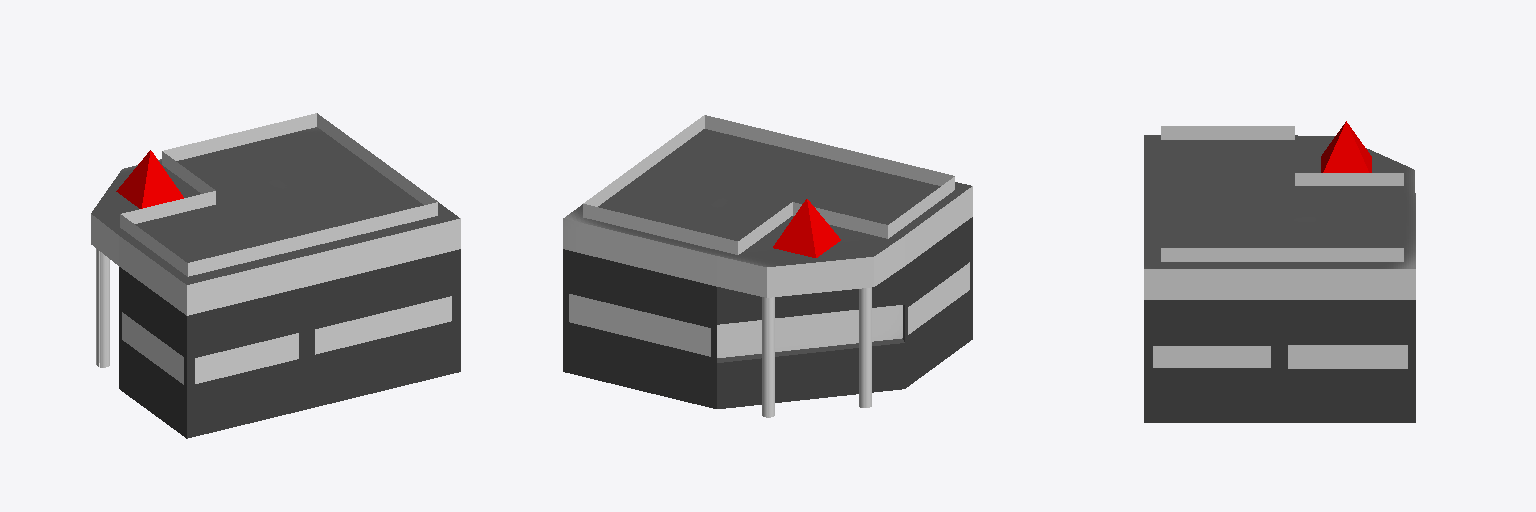
3 renders of one model, left to right at view 1: azimuth 30°, elevation 25°; view 2: azimuth 150°, elevation 25°; view 3: azimuth 270°, elevation 25°, orthographic.
Parts seen in each view (by area): view 1: Cube; view 2: Cube; view 3: Cube.
Part boxes in pixels (x1,y1,x2,y2): Cube: (91,113,460,438); Cube: (563,115,972,417); Cube: (1144,121,1415,422).
Bounding box in the file's own units: 2.33 × 1.62 × 2.
Materials: 1 (1 with a texture image).